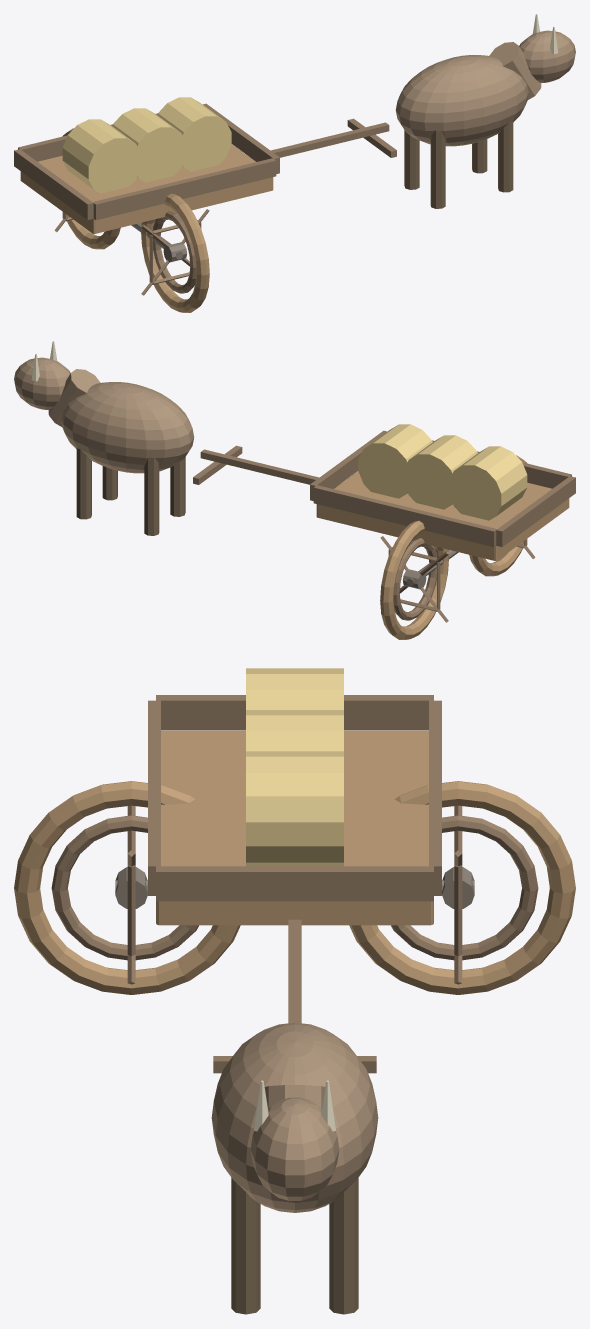
Rendered from ox_cart.glb.
The picture shows the model from 3 angles, top to bottom: view 1: azimuth 30°, elevation 25°; view 2: azimuth 150°, elevation 25°; view 3: azimuth 270°, elevation 25°; orthographic projection. The views are drawn at different scales.
Visible parts, largest first — view 1: ox_cart; view 2: ox_cart; view 3: ox_cart.
Part boxes in pixels (x1=…): ox_cart: x1=14, y1=14, x2=575, y2=312; ox_cart: x1=14, y1=341, x2=575, y2=639; ox_cart: x1=14, y1=668, x2=575, y2=1314.
Bounding box in the file's own units: 3.48 × 0.99 × 1.72.
